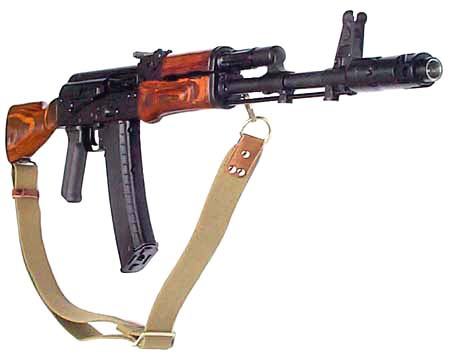ak47: (6, 11, 444, 274)
